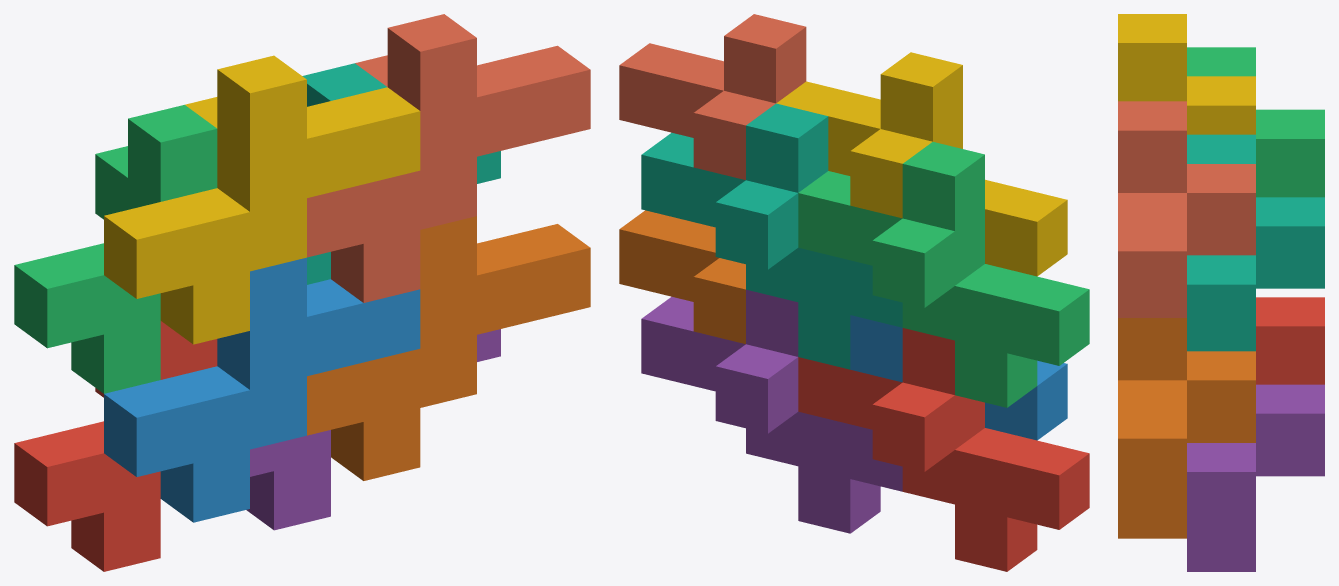
Rendered from tiling.obj.
The picture shows the model from 3 angles, left to right: view 1: azimuth 30°, elevation 25°; view 2: azimuth 150°, elevation 25°; view 3: azimuth 270°, elevation 25°; orthographic projection. The views are drawn at different scales.
Parts seen in each view (by area): view 1: copy_1_domain_4, copy_1_domain_2, copy_1_domain_8, copy_1_domain_6, copy_1_domain_3, copy_1_domain_1, copy_1_domain_5, copy_1_domain_7; view 2: copy_1_domain_3, copy_1_domain_1, copy_1_domain_7, copy_1_domain_5, copy_1_domain_4, copy_1_domain_8, copy_1_domain_6, copy_1_domain_2; view 3: copy_1_domain_6, copy_1_domain_8, copy_1_domain_5, copy_1_domain_7, copy_1_domain_4, copy_1_domain_3, copy_1_domain_1.
Part boxes in pixels (<box>): copy_1_domain_4: <box>104,55,420,344</box>; copy_1_domain_2: <box>104,257,420,522</box>; copy_1_domain_8: <box>307,14,590,302</box>; copy_1_domain_6: <box>307,216,590,480</box>; copy_1_domain_3: <box>14,105,217,393</box>; copy_1_domain_1: <box>14,321,217,571</box>; copy_1_domain_5: <box>246,329,500,530</box>; copy_1_domain_7: <box>302,63,500,284</box>; copy_1_domain_3: <box>798,142,1089,407</box>; copy_1_domain_1: <box>798,328,1089,571</box>; copy_1_domain_7: <box>641,103,902,369</box>; copy_1_domain_5: <box>641,289,902,533</box>; copy_1_domain_4: <box>776,52,1067,276</box>; copy_1_domain_8: <box>619,14,806,179</box>; copy_1_domain_6: <box>619,210,745,343</box>; copy_1_domain_2: <box>850,315,1067,440</box>; copy_1_domain_6: <box>1118,318,1255,538</box>; copy_1_domain_8: <box>1118,101,1255,317</box>; copy_1_domain_5: <box>1187,384,1324,571</box>; copy_1_domain_7: <box>1187,134,1324,351</box>; copy_1_domain_4: <box>1118,14,1255,134</box>; copy_1_domain_3: <box>1187,47,1324,197</box>; copy_1_domain_1: <box>1256,297,1324,384</box>.
Size of the model in its own units: 9 by 8 by 3.
